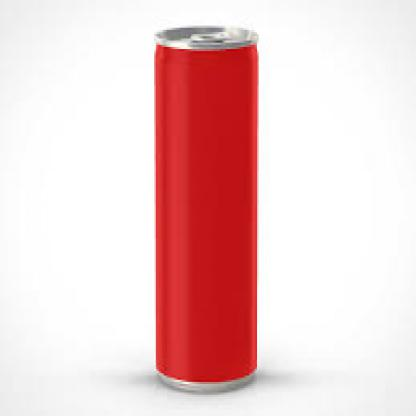Compsot: (153, 26, 257, 390)
